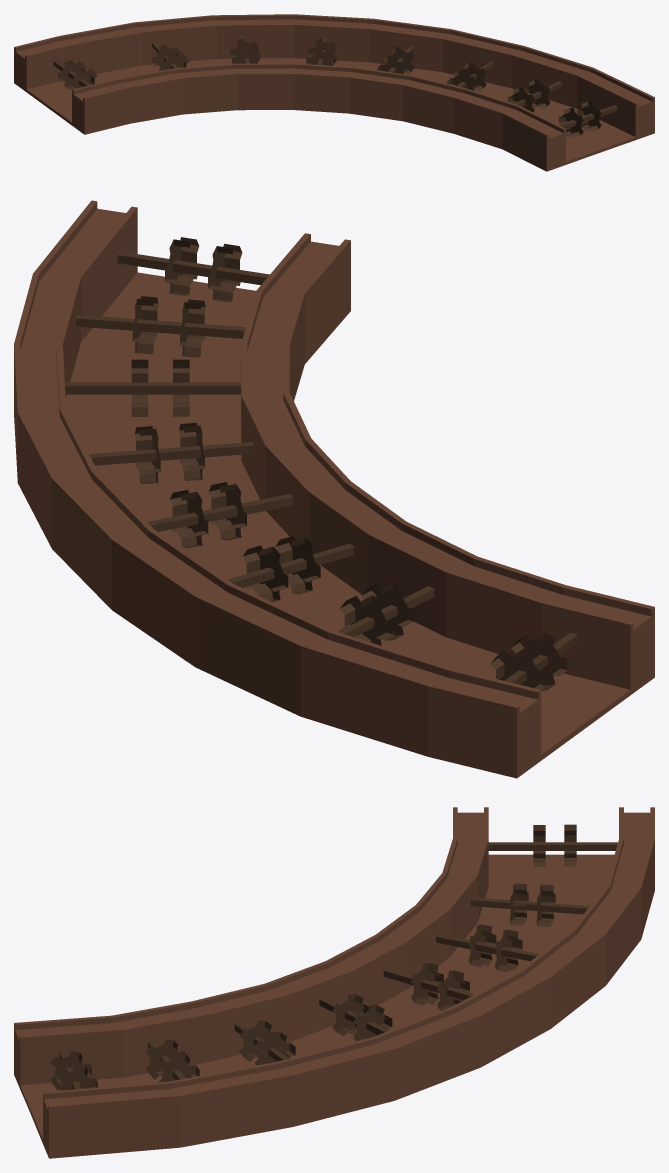
Rendered from rail droit 1 num 2.fbx.
3 views of the same model, one above another, from view 1: azimuth 30°, elevation 25°; view 2: azimuth 150°, elevation 25°; view 3: azimuth 270°, elevation 25° (orthographic). The views are drawn at different scales.
Visible parts, largest first — view 1: rail droite 1, petite roue 3.013, attache roue.004; view 2: rail droite 1, petite roue 3.013, attache roue.004; view 3: rail droite 1, petite roue 3.013, attache roue.004.
Boxes of the visible parts, box(x1,y1,x2,y2) form: rail droite 1: box(14, 14, 654, 171); petite roue 3.013: box(58, 38, 601, 137); attache roue.004: box(53, 36, 617, 128); rail droite 1: box(14, 200, 654, 778); petite roue 3.013: box(131, 237, 567, 690); attache roue.004: box(64, 251, 578, 684); rail droite 1: box(14, 807, 654, 1158); petite roue 3.013: box(50, 824, 576, 1090); attache roue.004: box(59, 842, 617, 1089).
Size of the model in its own units: 1543 by 127 by 1394.
